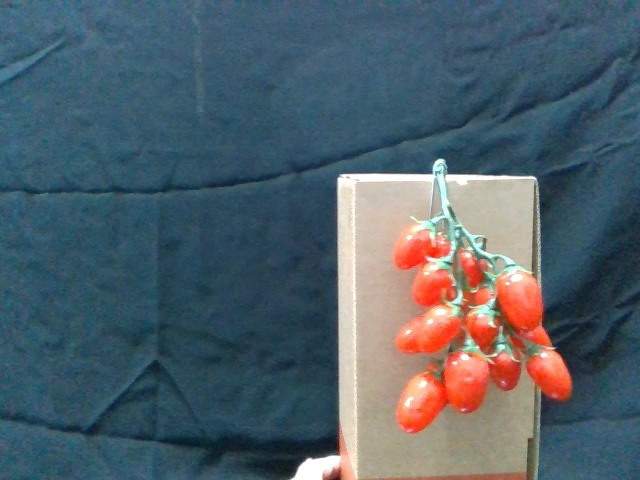tomato: (394, 364, 448, 432), (496, 262, 543, 326), (526, 341, 572, 402), (447, 345, 487, 414), (423, 295, 467, 356), (397, 219, 442, 271), (484, 335, 523, 391), (414, 256, 458, 305), (463, 298, 502, 346)
